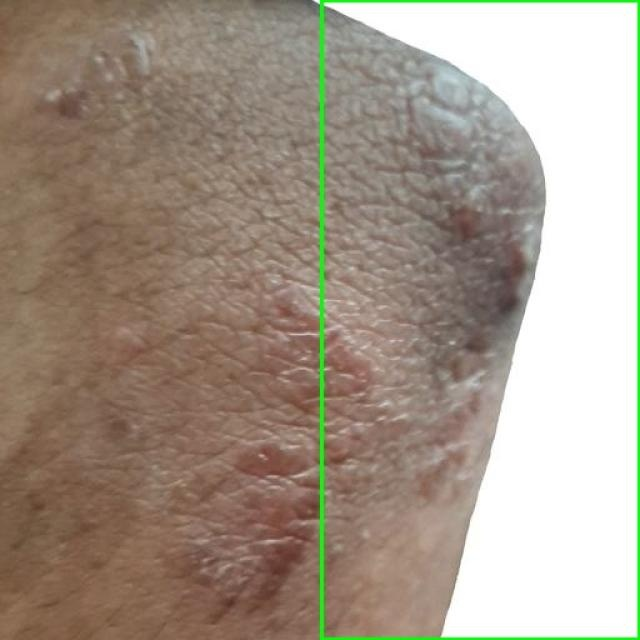Tinea Corporis: (321, 0, 639, 639)
